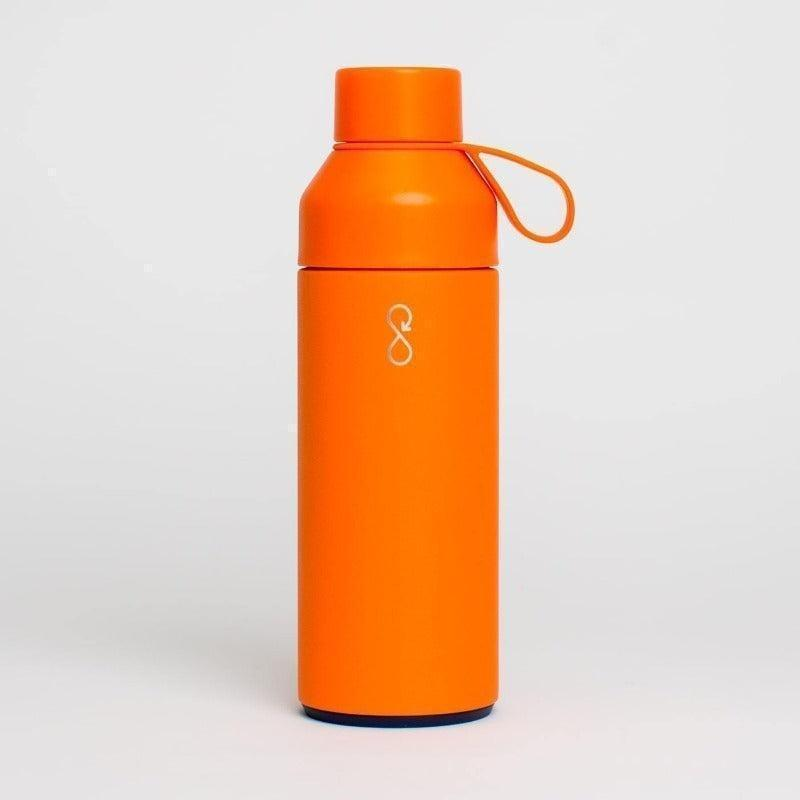gym bottle: (290, 59, 577, 726)
